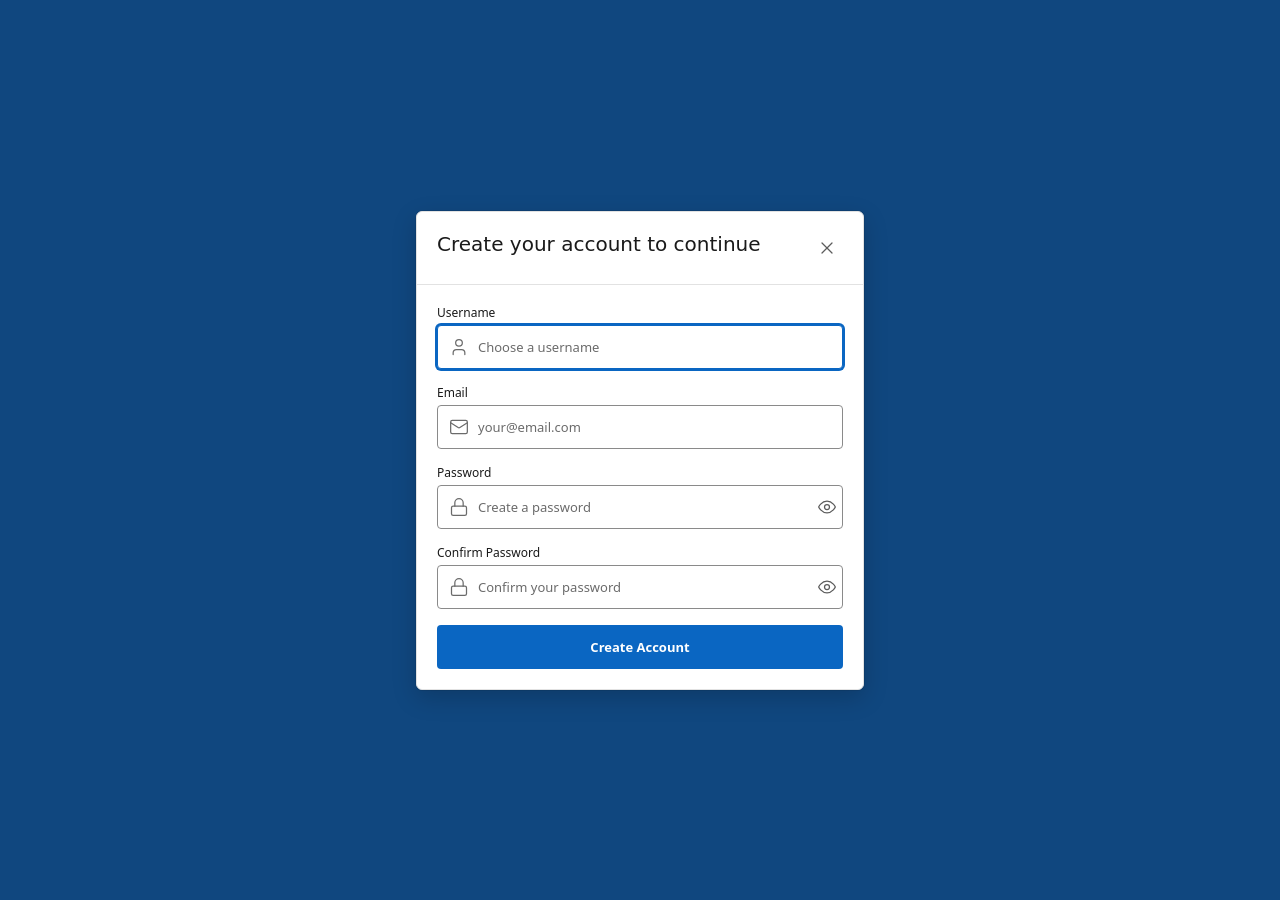
GuestRegistrationModal › a password mismatch is shown on the confirm field and nothing is sent
Type "guest1" into the field labelled "Username".
click(640, 346); type("guest1")  # box top-left (437, 324), bottom-right (843, 368)
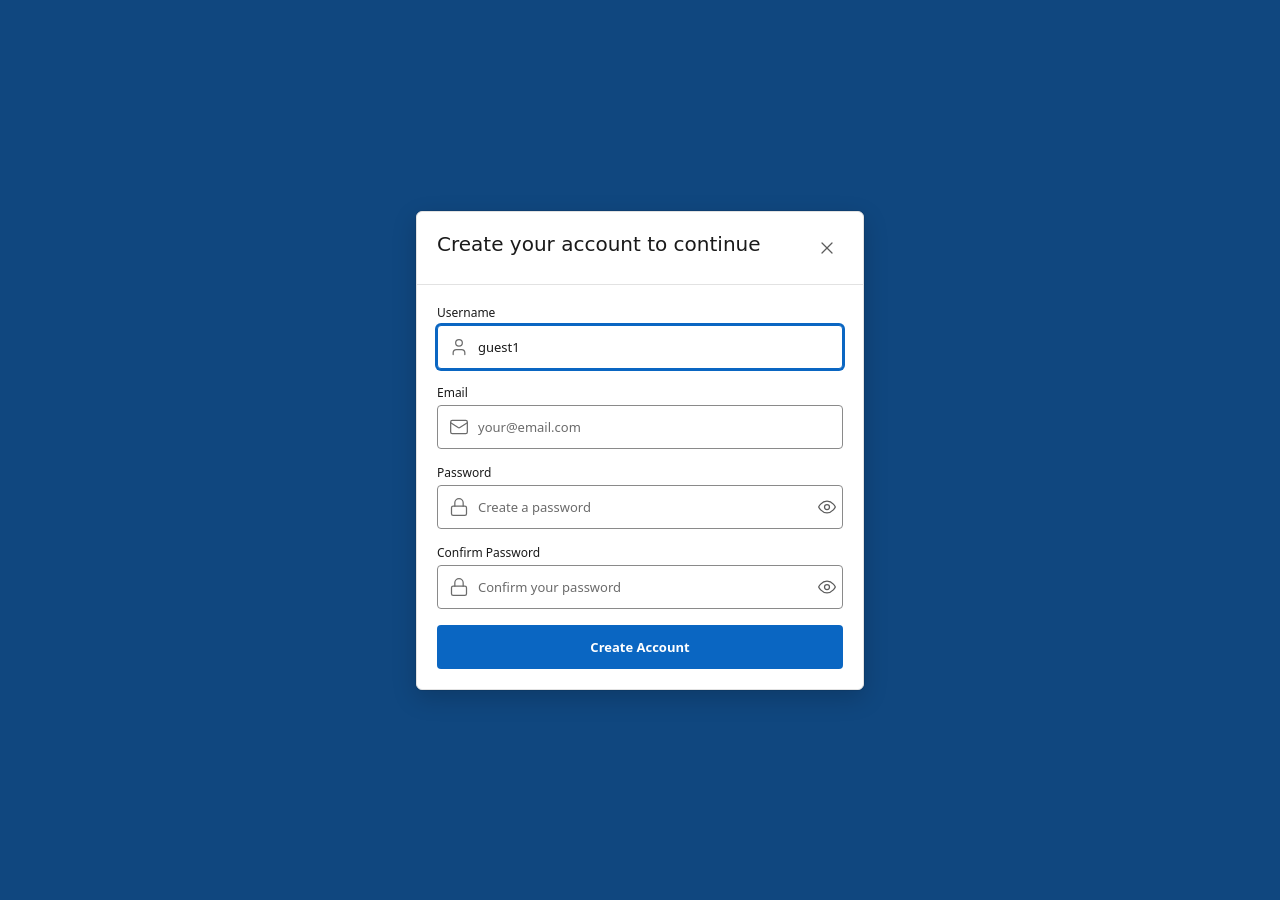
Type "g@example.com" into the field labelled "Email".
click(640, 426); type("g@example.com")  # box top-left (437, 404), bottom-right (843, 448)
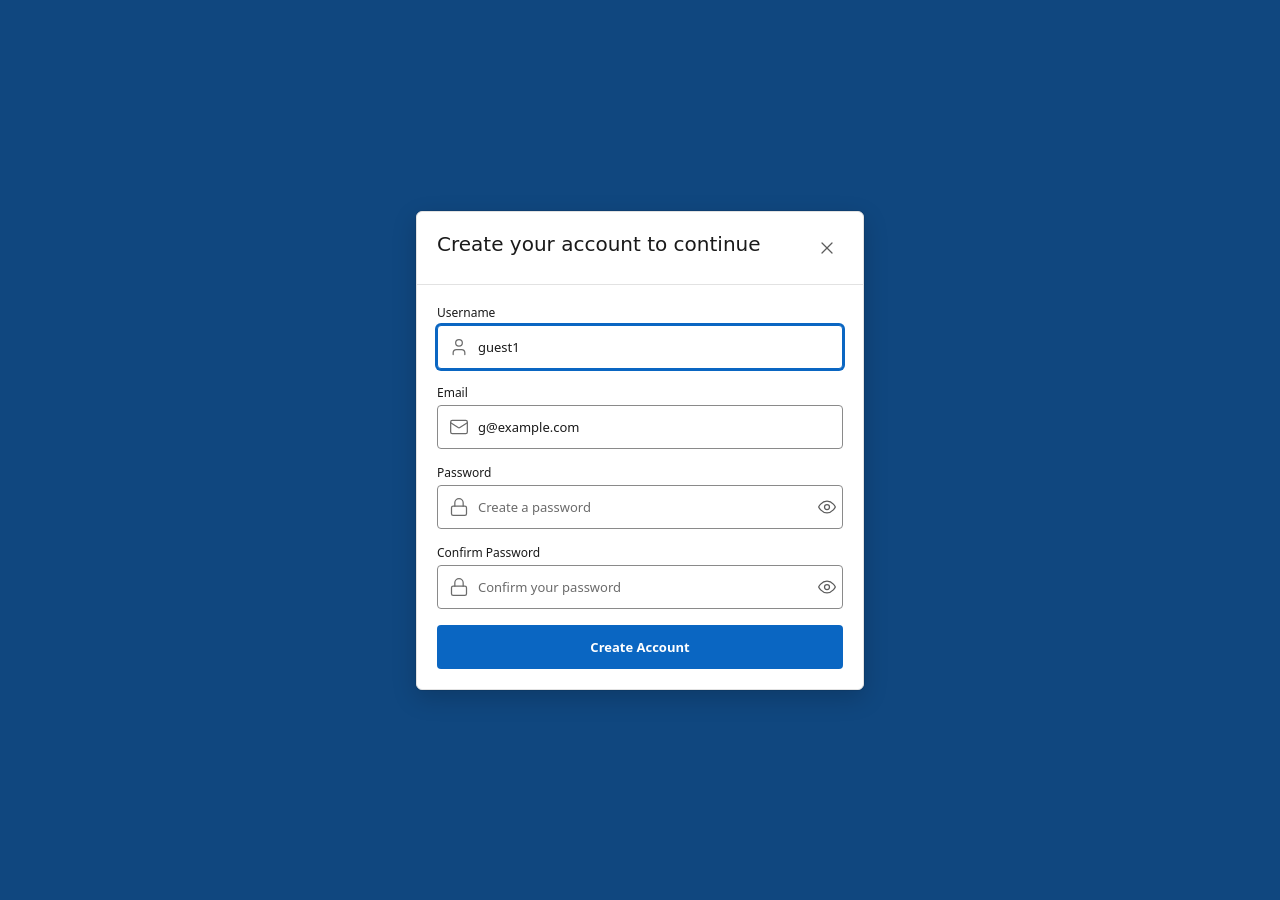
Type "secret-one" into the password field labelled "Password".
click(640, 506); type("secret-one")  # box top-left (437, 484), bottom-right (843, 528)
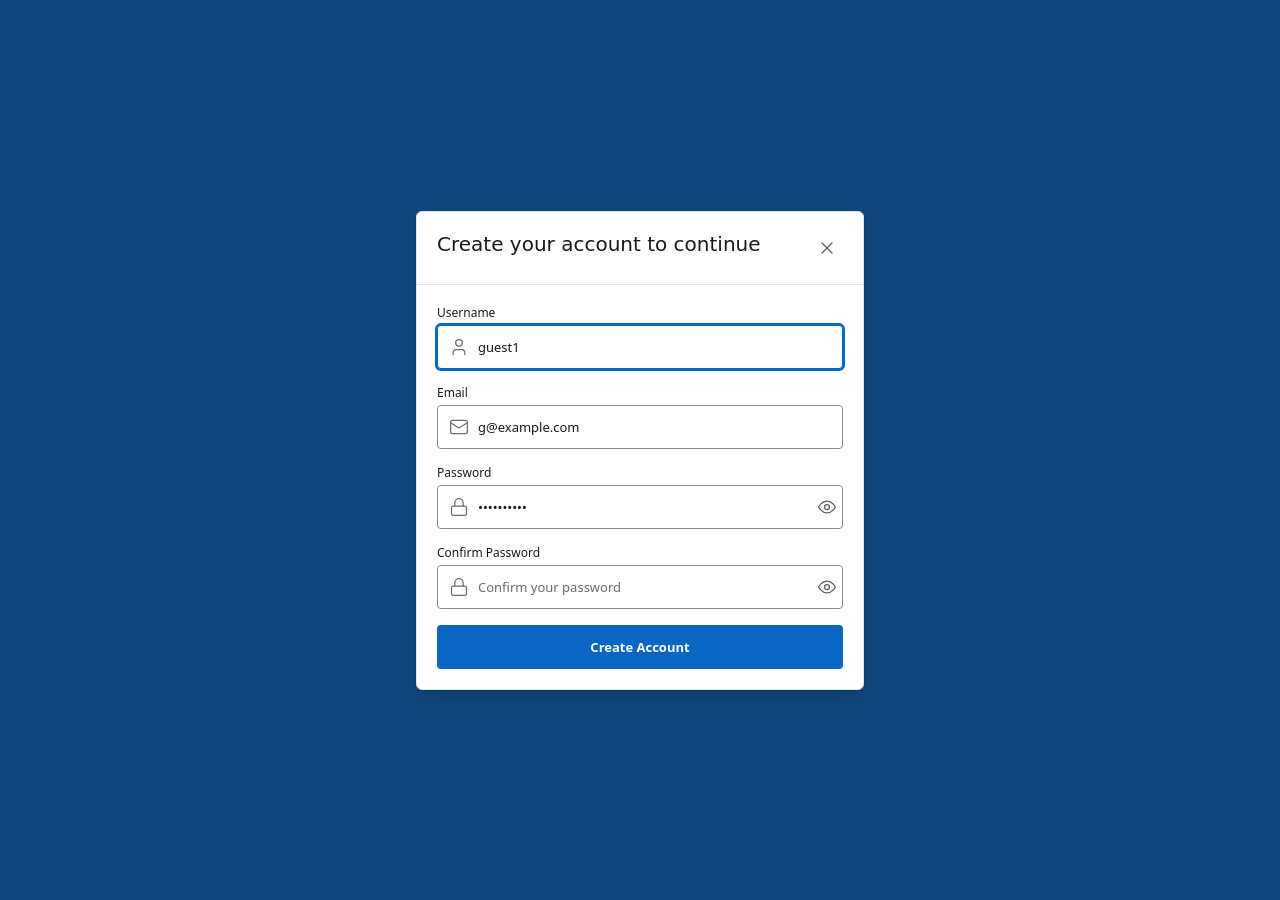
Type "secret-two" into the password field labelled "Confirm Password".
click(640, 586); type("secret-two")  # box top-left (437, 564), bottom-right (843, 608)
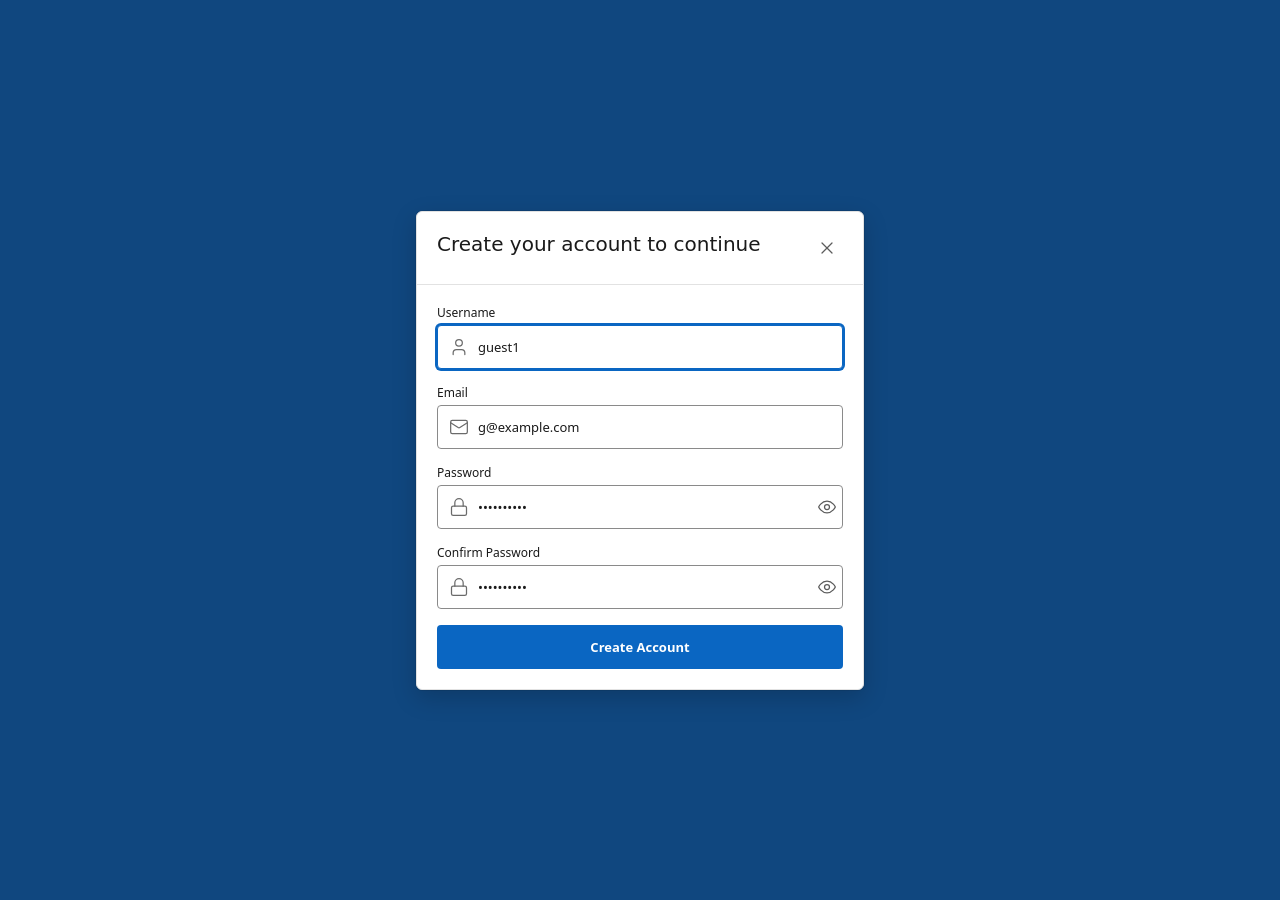
Click the button "Create Account".
click(640, 646)  # box top-left (437, 624), bottom-right (843, 668)
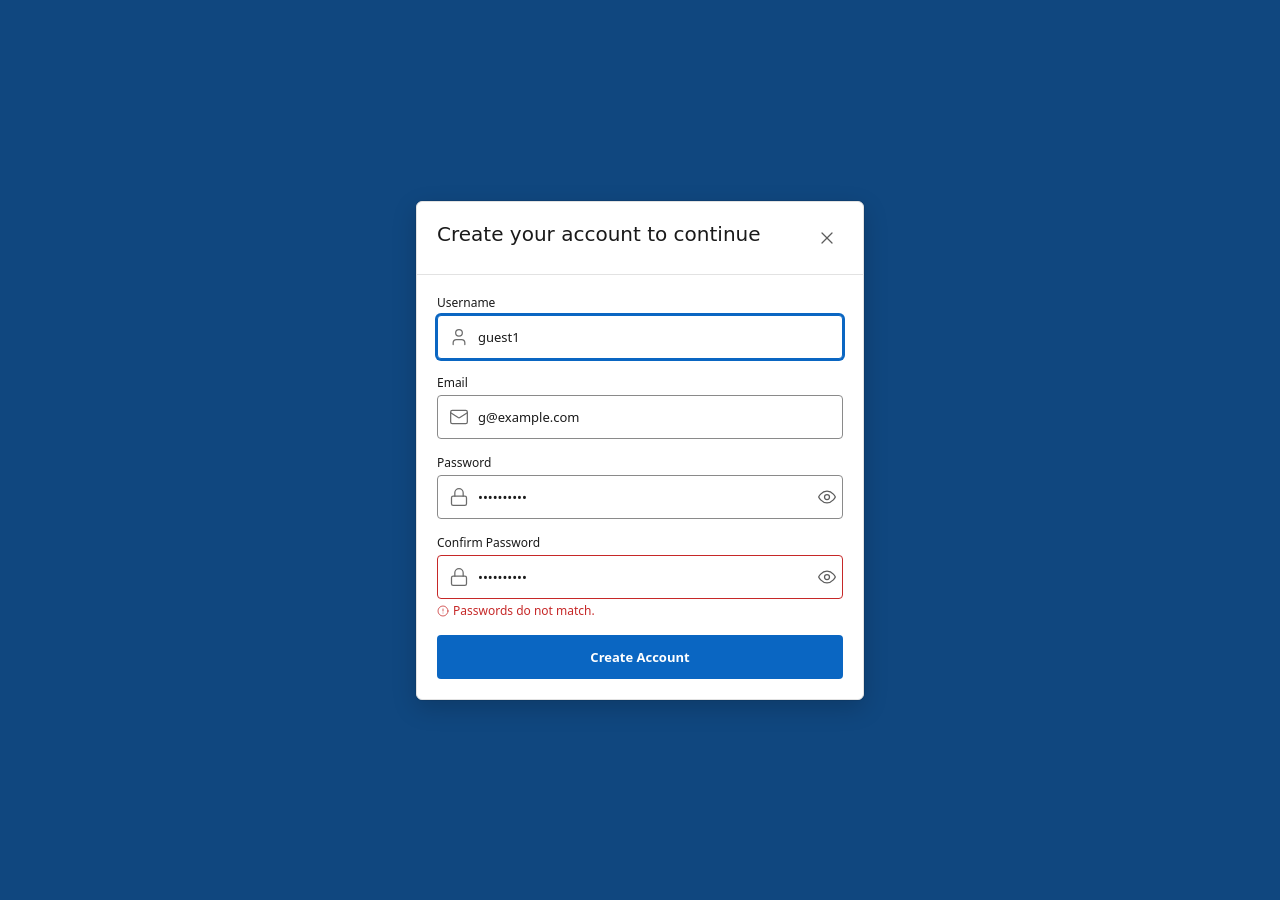
Result: the text "Passwords do not match." is shown at top-left (437, 602), bottom-right (595, 618)
